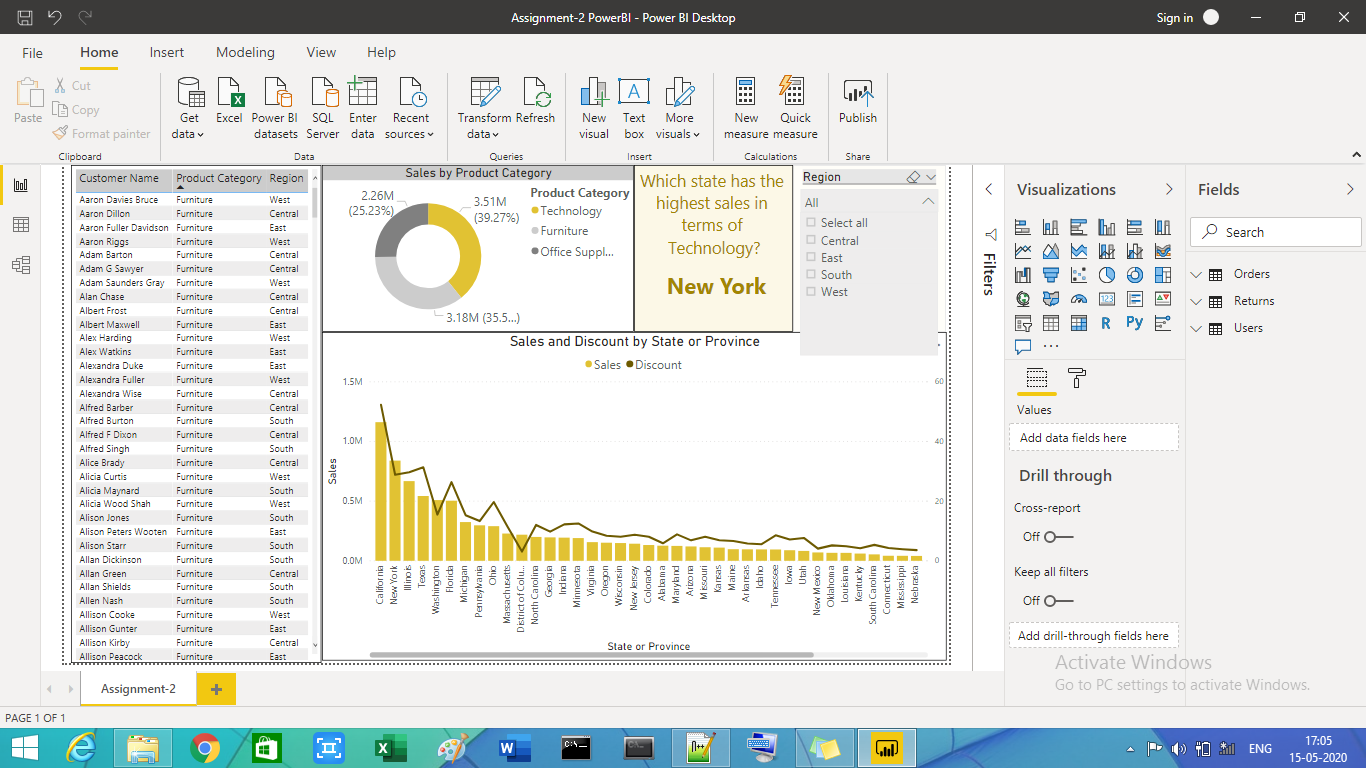

The dashboard page shown, as its layout file describes it:
{"tool":"powerbi","page":{"name":"Assignment-2","canvas":[1280,720],"ordinal":0},"visuals":[{"type":"donutChart","fields":{"Category":["Orders.Product Category"],"Y":["Orders.Sales"]},"box":[373,0,451.1,241.4],"z":0},{"type":"tableEx","fields":{"Values":["Orders.Customer Name","Orders.Product Category","Orders.Region"]},"box":[10.1,0,362.4,719.7],"z":1000},{"type":"lineClusteredColumnComboChart","fields":{"Y":["Orders.Sales"],"Category":["Orders.State or Province"],"Y2":["Orders.Discount"]},"box":[372.4,241.6,902.5,474.8],"z":2000},{"type":"slicer","fields":{"Values":["Orders.Region"]},"box":[1054,0,221.2,241.4],"z":3000},{"type":"textbox","box":[824.1,0,229.9,241.4],"z":4000}]}

Visuals, with their boxes on the page's 1280x720 design canvas (x1, y1, x2, y2). These are canvas units, not pixel positions in the 1366x768 screenshot, which may show the page scaled, cropped or inside an application window:
donutChart - Orders.Product Category x Orders.Sales: [373, 0, 824, 241]
tableEx - Orders.Customer Name x Orders.Product Category: [10, 0, 372, 720]
lineClusteredColumnComboChart - Orders.Sales x Orders.State or Province: [372, 242, 1275, 716]
slicer - Orders.Region: [1054, 0, 1275, 241]
textbox: [824, 0, 1054, 241]
